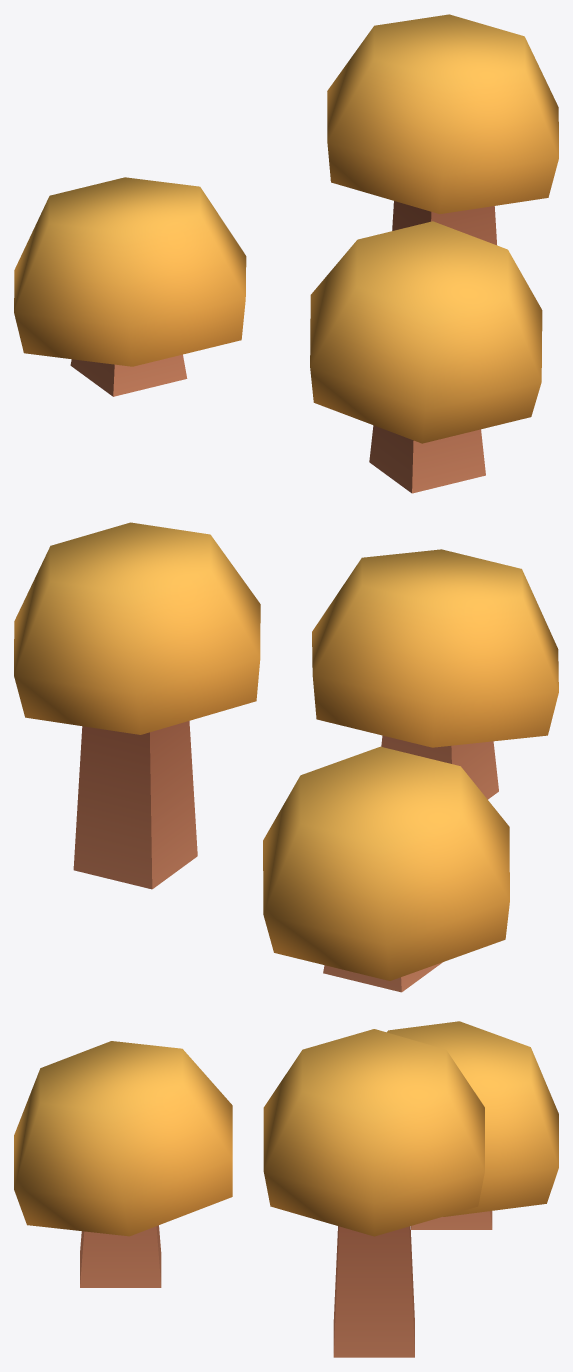
The model's file is mushrooms.glb.
The picture shows the model from 3 angles, top to bottom: view 1: azimuth 30°, elevation 25°; view 2: azimuth 150°, elevation 25°; view 3: azimuth 270°, elevation 25°; orthographic projection. The views are drawn at different scales.
Parts seen in each view (by area): view 1: mushrooms; view 2: mushrooms; view 3: mushrooms.
Part boxes in pixels (x1=…): mushrooms: x1=14, y1=14, x2=558, y2=493; mushrooms: x1=14, y1=522, x2=558, y2=992; mushrooms: x1=14, y1=1021, x2=558, y2=1357.
Bounding box in the file's own units: 0.5222 × 0.2892 × 0.5119.
